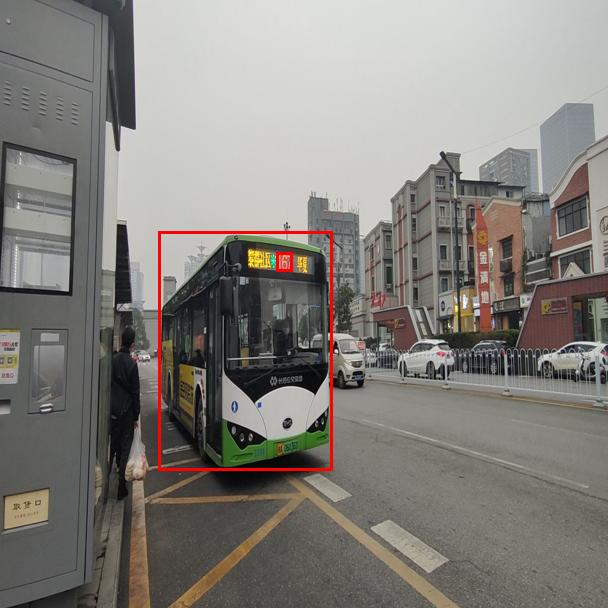bus: (158, 231, 332, 470)
screen: (276, 252, 292, 271)
